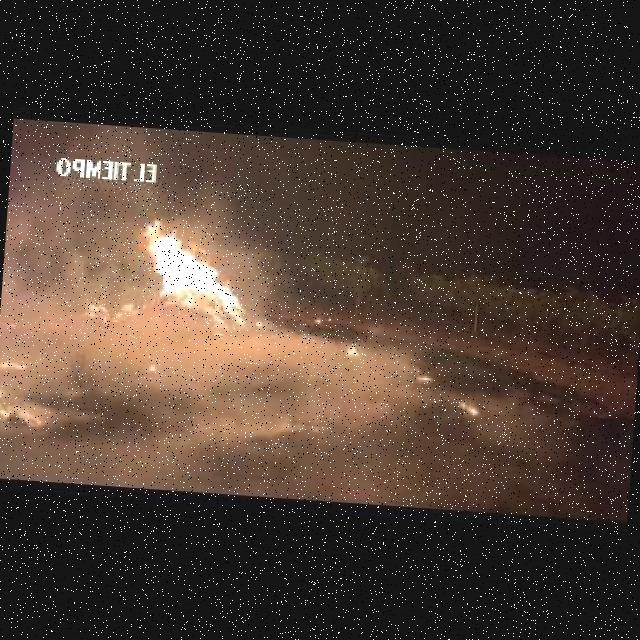Fire: (140, 218, 255, 333), (0, 388, 46, 423), (83, 296, 133, 323), (458, 400, 479, 413), (3, 358, 29, 368), (346, 344, 361, 357), (414, 373, 433, 382), (148, 362, 157, 373), (254, 321, 264, 328), (314, 316, 320, 322)
